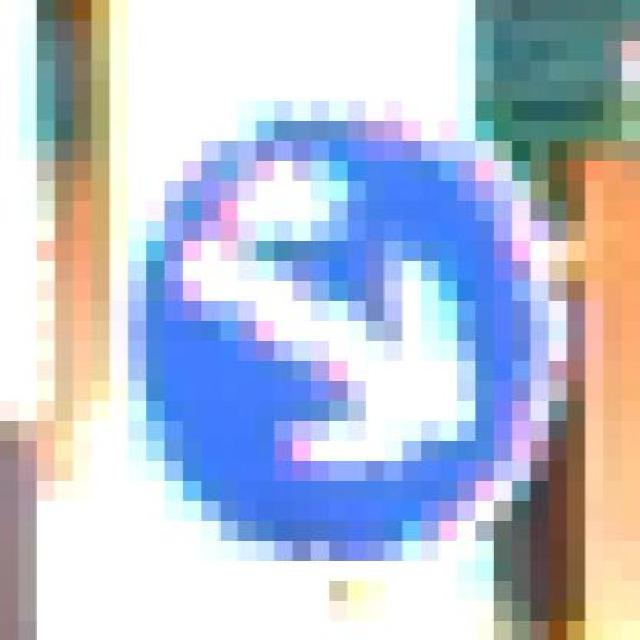Keep-Right: (128, 100, 568, 560)
